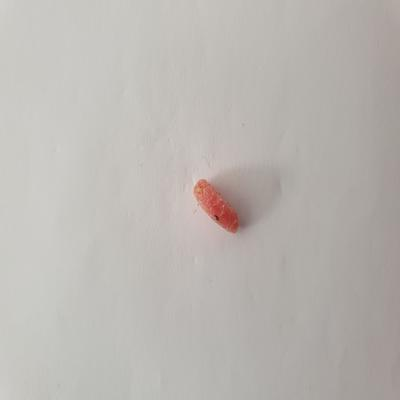plastic: (189, 174, 246, 239)
